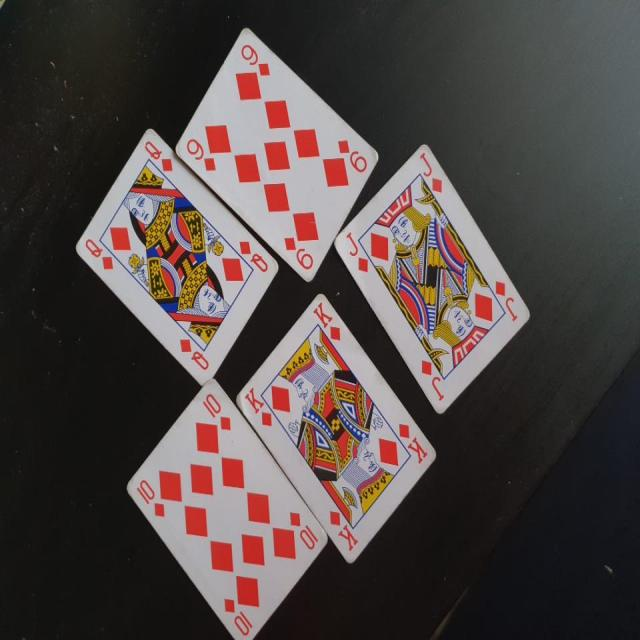10 Diamonds: (122, 378, 326, 637)
9 Diamonds: (174, 25, 379, 284)
J Diamonds: (330, 138, 531, 413)
K Diamonds: (235, 292, 439, 566)
Q Diamonds: (73, 127, 282, 386)
